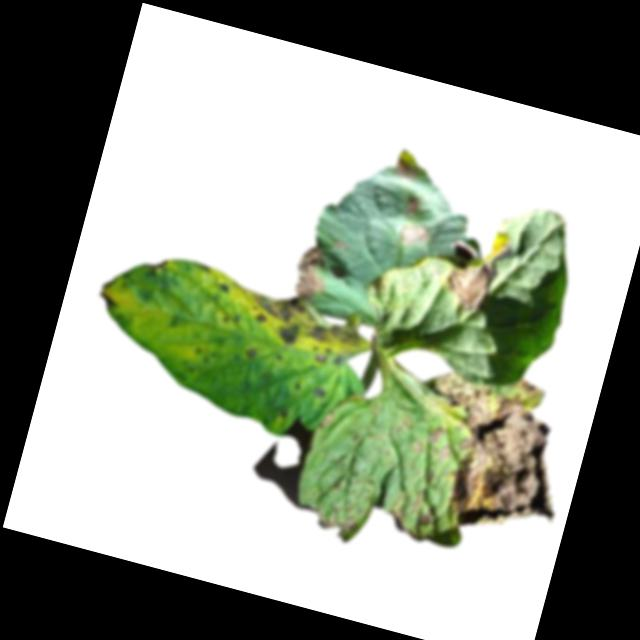Early_blight: (395, 355, 588, 549), (233, 286, 366, 372), (439, 220, 514, 320), (287, 242, 335, 302), (314, 505, 361, 542), (396, 219, 430, 251), (92, 278, 121, 313), (392, 155, 420, 185), (403, 195, 423, 218), (308, 384, 327, 404), (318, 409, 334, 432), (215, 279, 234, 298), (242, 345, 260, 364)
